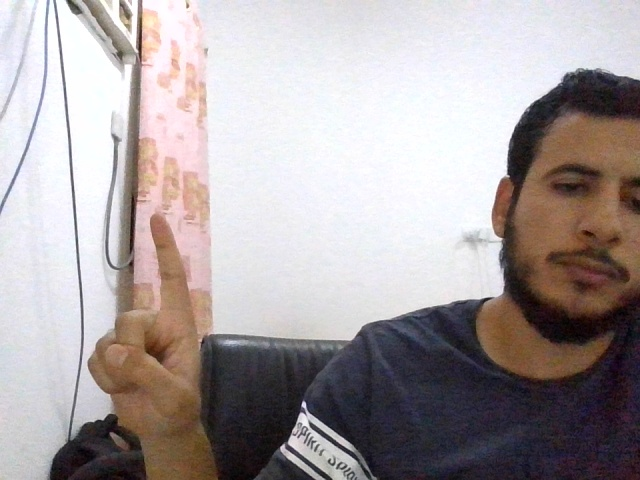One: (87, 214, 204, 432)
